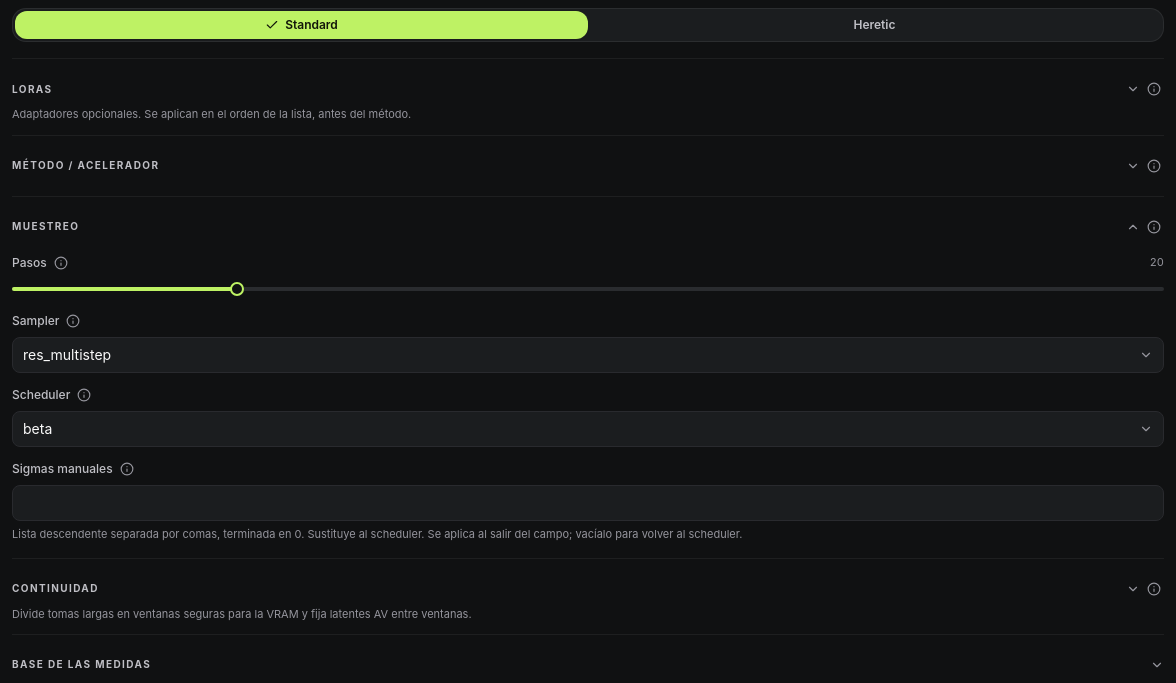
Scenario: automatic continuity controls › is enabled by default and lets the creator force a window size
(page scrolled)
Note: Continuity lives in a collapsed Advanced section.
Click the button "Continuidad". click: point(55, 588)
box: x1=12 y1=571 x2=1140 y2=607
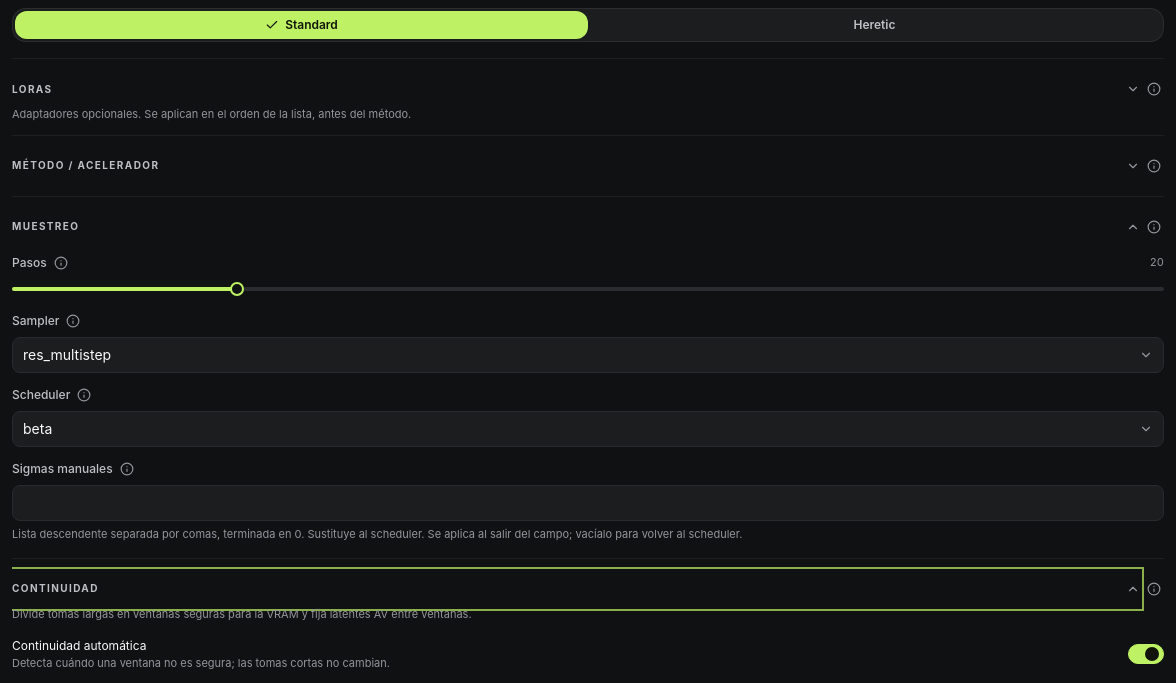
Expected: the switch named "continuidad automática" is checked
Click the switch named "continuidad automática". click: point(1146, 654)
box: x1=1128 y1=644 x2=1164 y2=664
(page scrolled)
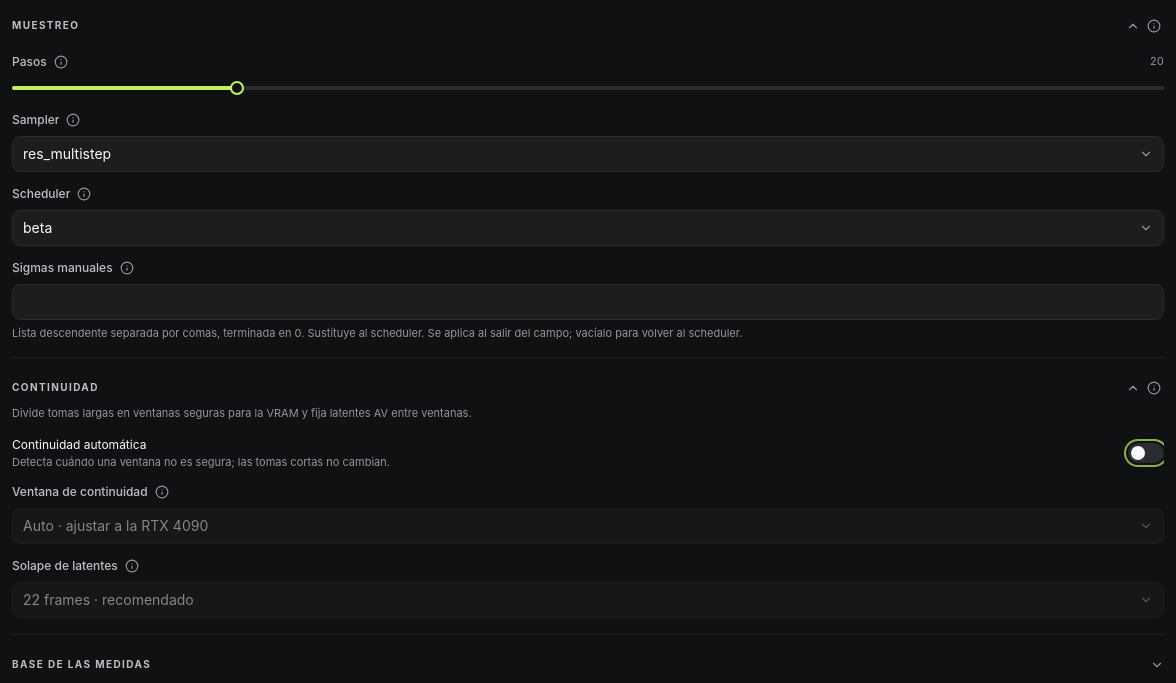
Expected: the dropdown named "ventana de continuidad" is disabled, x1=12 y1=508 x2=1164 y2=544
